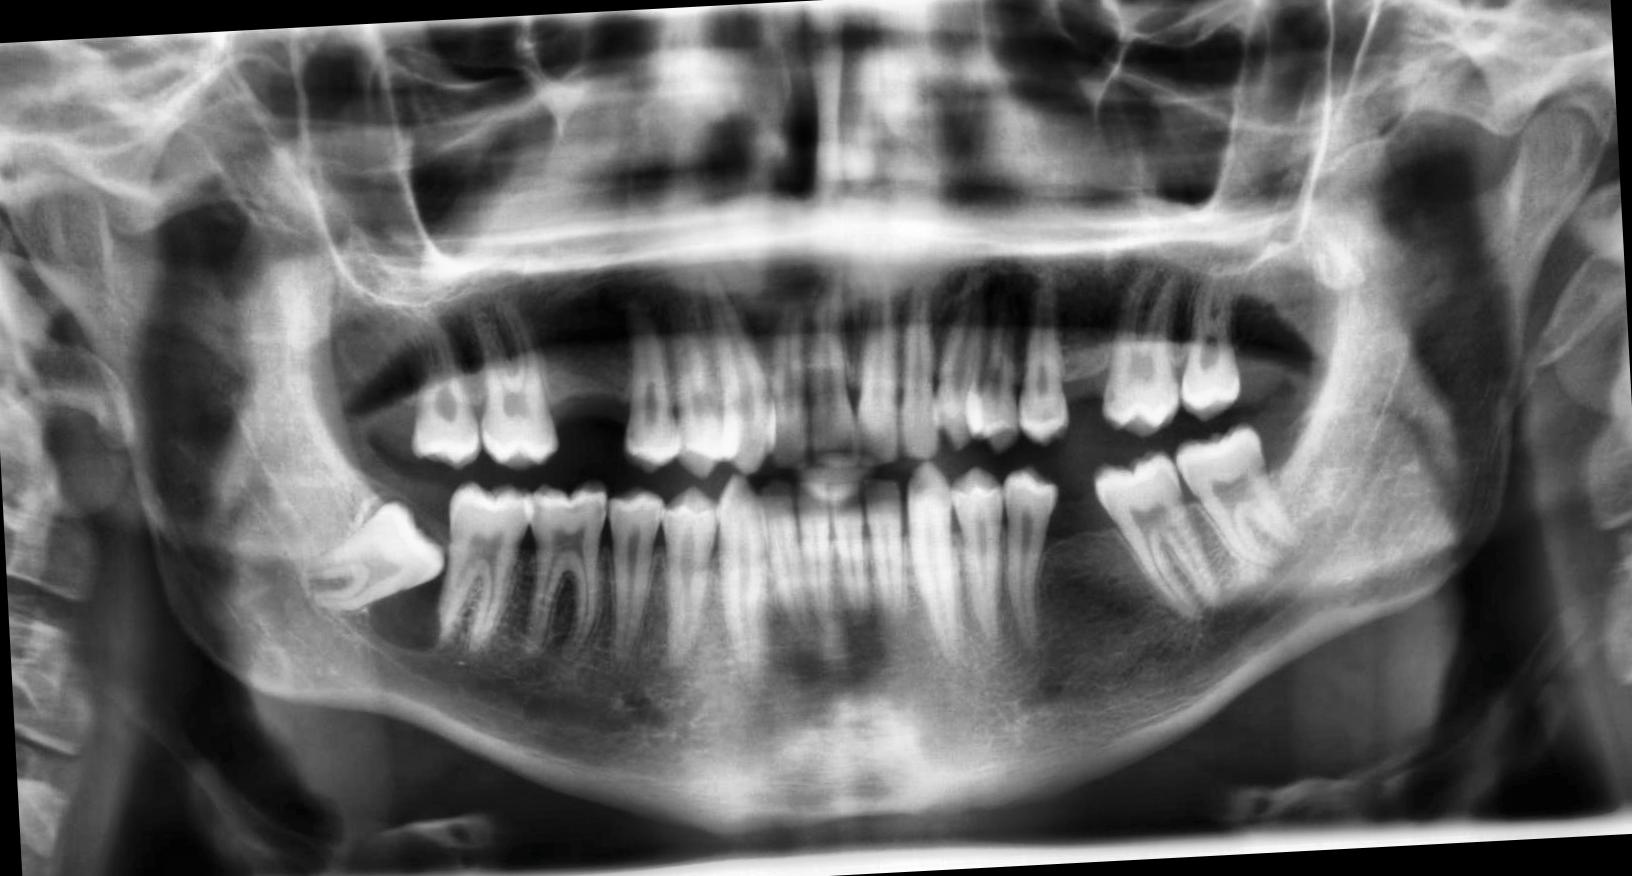dentigeroz: (352, 482, 458, 656)
